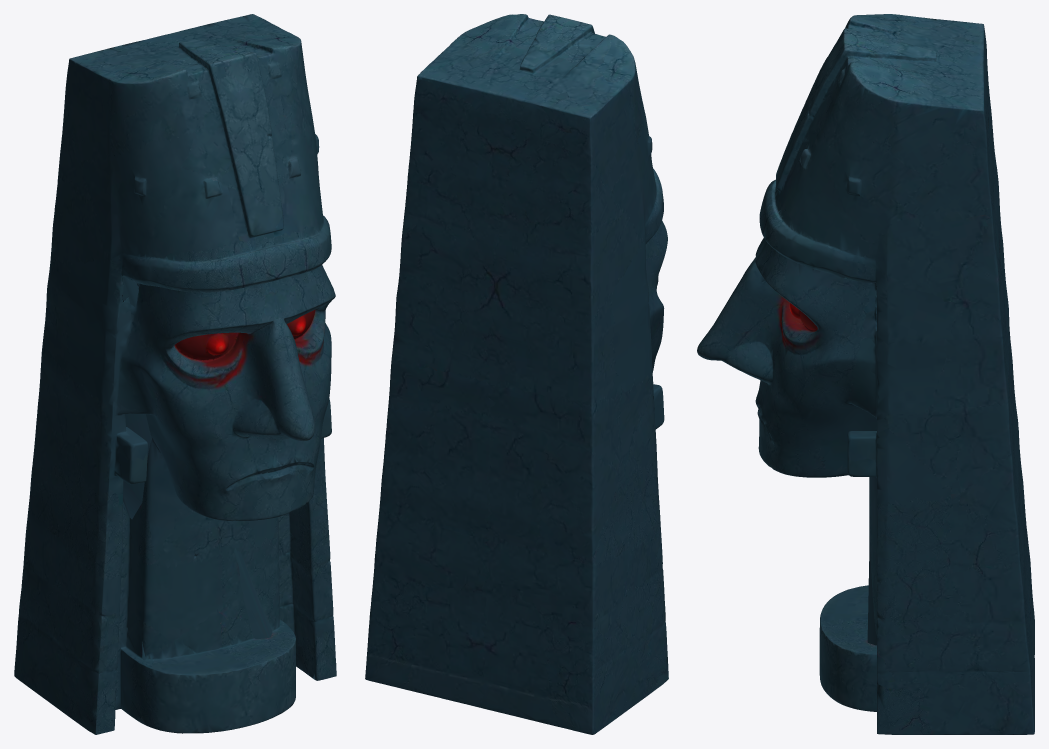
File: giant-head.glb
The picture shows the model from 3 angles, left to right: view 1: azimuth 30°, elevation 25°; view 2: azimuth 150°, elevation 25°; view 3: azimuth 270°, elevation 25°; orthographic projection. The views are drawn at different scales.
Bounding box in the file's own units: 0.7329 × 1.9 × 0.9097.
Materials: 1 (1 with a texture image).
